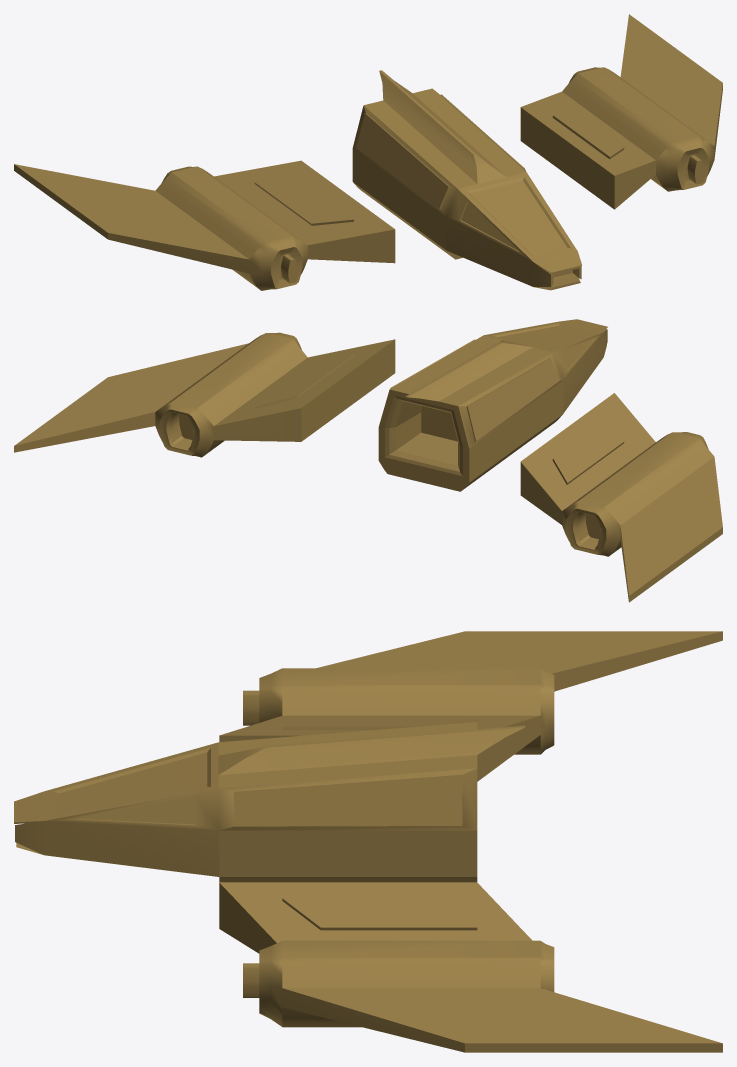
File: DestroyedEnemeyBomber.fbx
3 renders of one model, top to bottom at view 1: azimuth 30°, elevation 25°; view 2: azimuth 150°, elevation 25°; view 3: azimuth 270°, elevation 25°, orthographic. The views are drawn at different scales.
Parts seen in each view (by area): view 1: EnemyBomberRightWing, EnemyBomberBase, EnemyBomberLeftWing; view 2: EnemyBomberLeftWing, EnemyBomberRightWing, EnemyBomberBase; view 3: EnemyBomberBase, EnemyBomberLeftWing, EnemyBomberRightWing.
Part boxes in pixels (x1,y1,x2,y2): EnemyBomberRightWing: (14,160,395,290); EnemyBomberBase: (352,70,581,290); EnemyBomberLeftWing: (520,14,722,209); EnemyBomberLeftWing: (14,332,395,457); EnemyBomberRightWing: (520,393,722,602); EnemyBomberBase: (378,319,607,491); EnemyBomberBase: (14,722,525,882); EnemyBomberLeftWing: (219,882,722,1052); EnemyBomberRightWing: (219,631,722,781).
Size of the model in its own units: 159 by 25.91 by 115.
